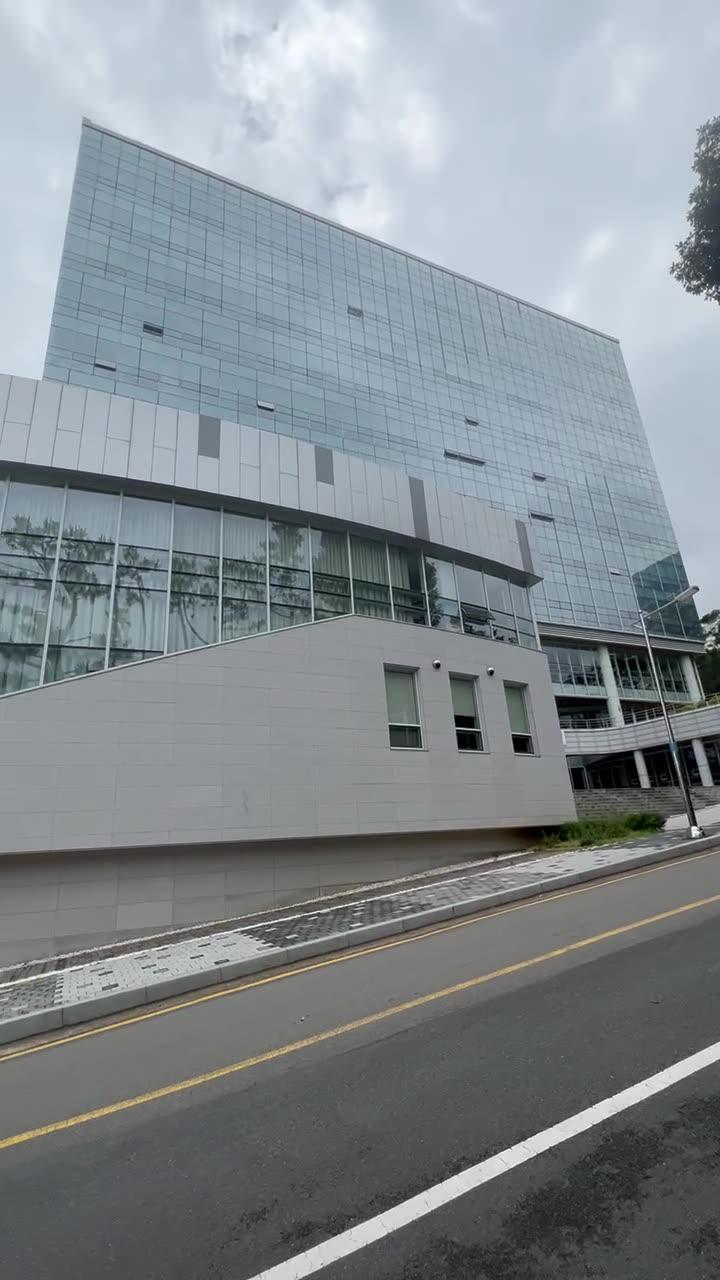building: (36, 126, 678, 820)
